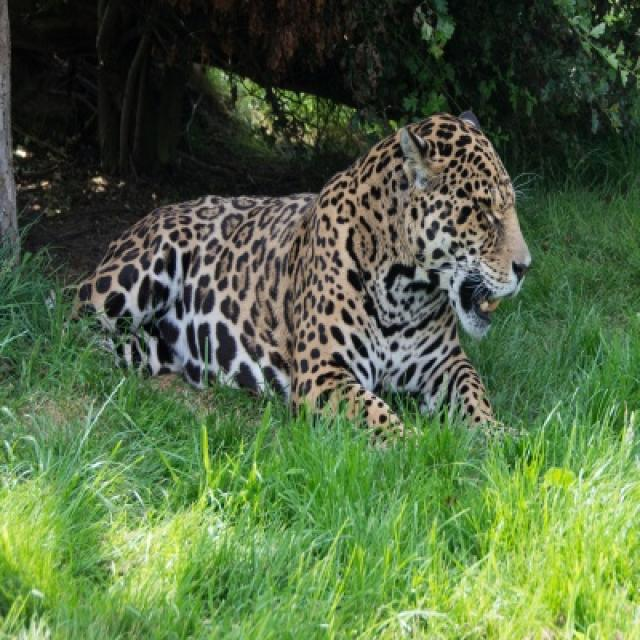Jaguar: (77, 114, 533, 430)
